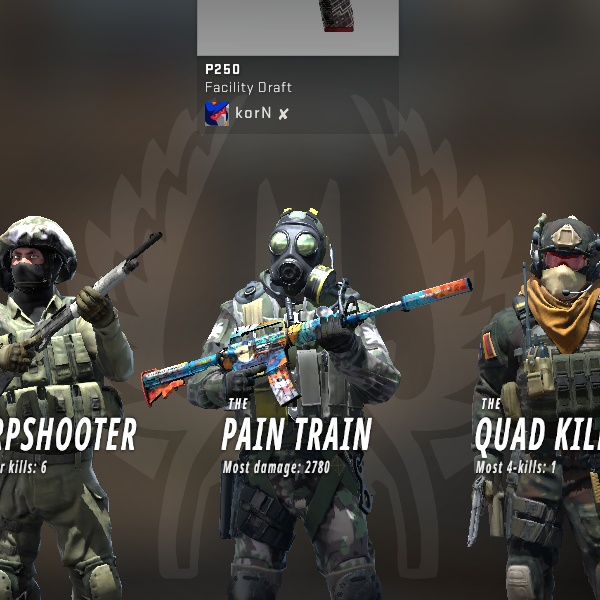ct_body: (427, 182, 589, 600), (0, 197, 162, 600)
ct_head: (514, 198, 599, 316), (0, 205, 88, 307)
